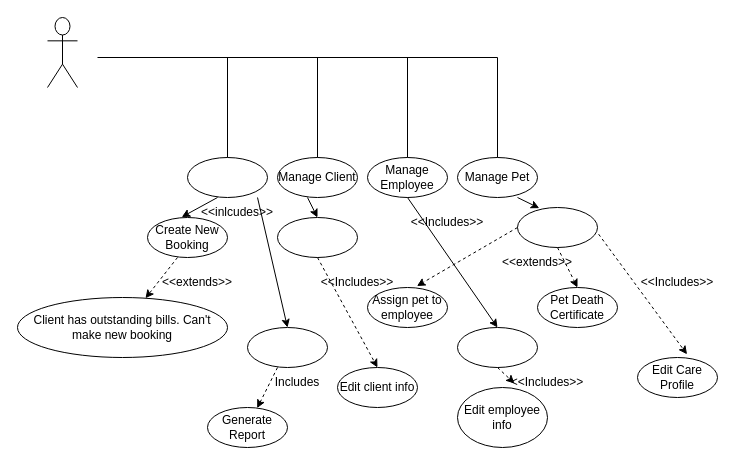
This 735x465 diagram has some shape labels left out. The shapes that lost their labels are listed below. From the top down, each one's centre as x and y in pixels, then its label:
At [62,52]: "Employee Actor".
At [227,177]: "Manage Bookings".
At [317,237]: "Search for client".
At [557,227]: "Search for pet".
At [287,347]: "View Booking".
At [497,347]: "Search for employee".
